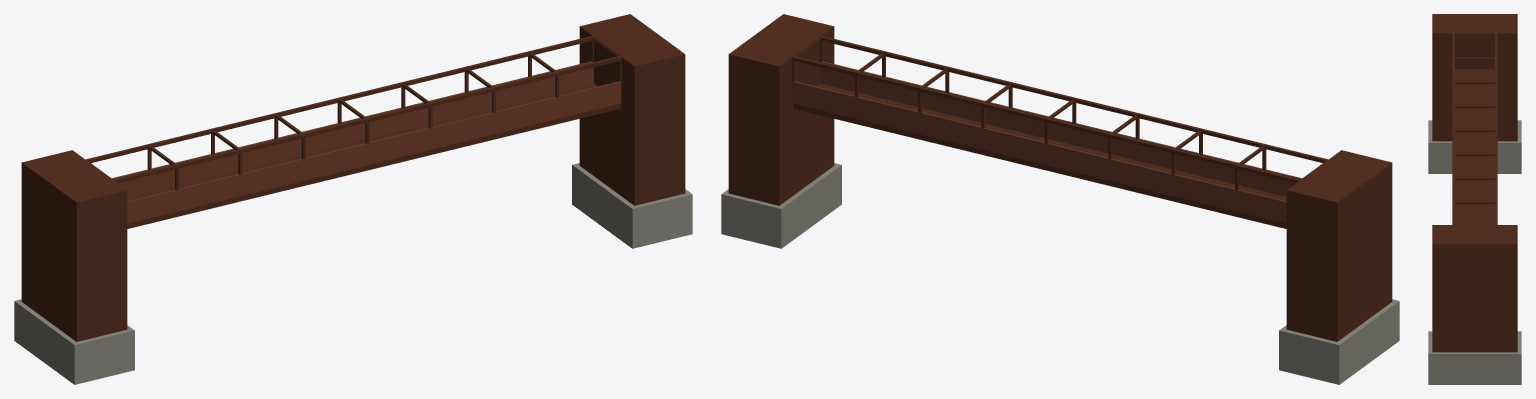
Rendered from footbridge_rust.glb.
3 renders of one model, left to right at view 1: azimuth 30°, elevation 25°; view 2: azimuth 150°, elevation 25°; view 3: azimuth 270°, elevation 25°, orthographic. The views are drawn at different scales.
Visible parts, largest first — view 1: chunk_0_0; view 2: chunk_0_0; view 3: chunk_0_0.
Boxes of the visible parts, x1,y1,x2,y2 form: chunk_0_0: (14, 14, 692, 384); chunk_0_0: (721, 14, 1399, 384); chunk_0_0: (1428, 14, 1521, 384).
Size of the model in its own units: 39 by 10.8 by 6.6.
